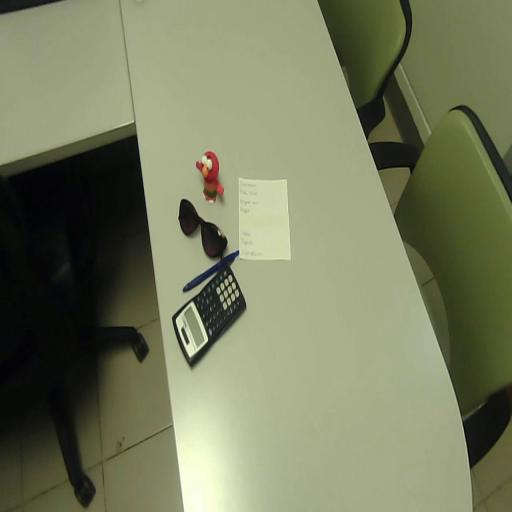pen: (183, 251, 239, 292)
